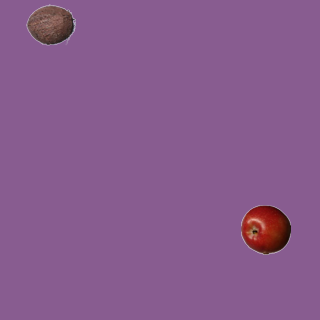Apple Braeburn: (240, 204, 290, 254)
Cocos: (25, 0, 75, 49)
